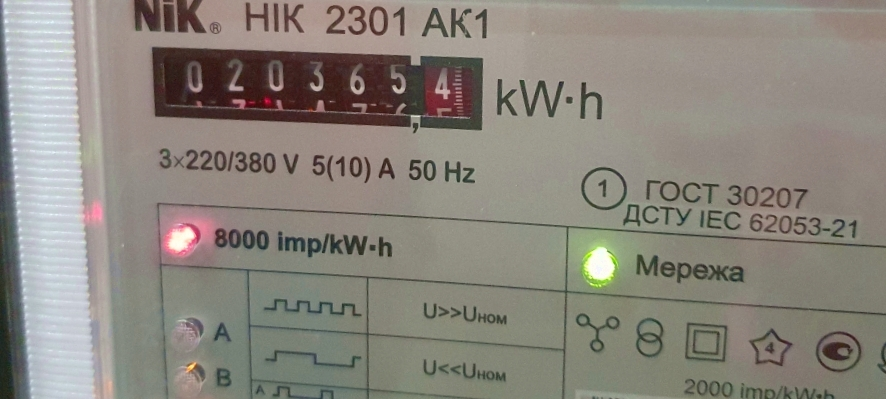0: (183, 57, 206, 93), (265, 56, 287, 93)
2: (223, 55, 248, 93)
3: (306, 56, 327, 92)
4: (432, 64, 454, 100)
5: (387, 61, 409, 95)
6: (346, 59, 368, 96)
screen: (130, 20, 506, 151)
